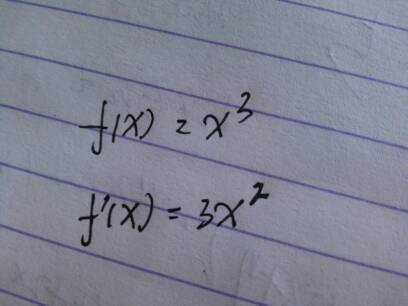cube: (235, 90, 253, 123)
square: (249, 180, 268, 206)
